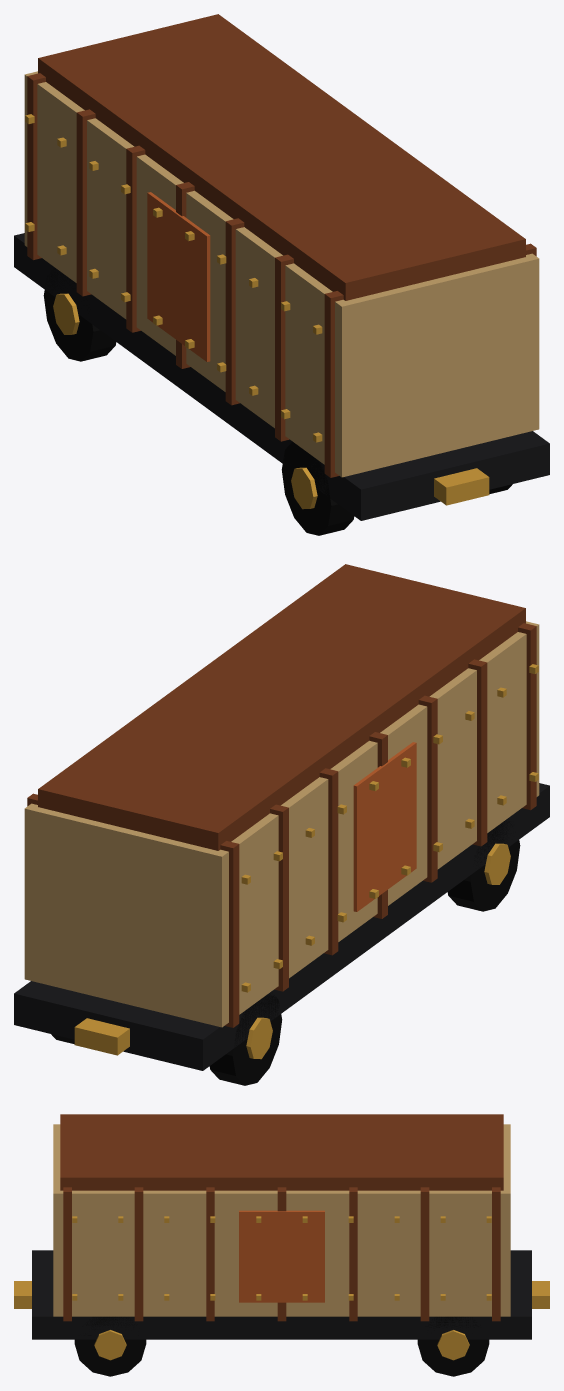
File: carriage_cargo.obj
The picture shows the model from 3 angles, top to bottom: view 1: azimuth 30°, elevation 25°; view 2: azimuth 150°, elevation 25°; view 3: azimuth 270°, elevation 25°; orthographic projection. The views are drawn at different scales.
Visible parts, largest first — view 1: chassis, wheel_fl, wheel_rl; view 2: chassis, wheel_rl, wheel_fl; view 3: chassis, wheel_fr, wheel_rr.
Boxes of the visible parts, x1=… form: chassis: x1=14, y1=14, x2=549, y2=520; wheel_fl: x1=281, y1=441, x2=354, y2=535; wheel_rl: x1=43, y1=268, x2=116, y2=361; chassis: x1=14, y1=564, x2=549, y2=1070; wheel_rl: x1=209, y1=993, x2=282, y2=1085; wheel_fl: x1=447, y1=819, x2=520, y2=911; chassis: x1=14, y1=1114, x2=549, y2=1339; wheel_fr: x1=74, y1=1316, x2=146, y2=1376; wheel_rr: x1=417, y1=1316, x2=489, y2=1376.
Bounding box in the file's own units: 2.59 × 3.05 × 7.5.
